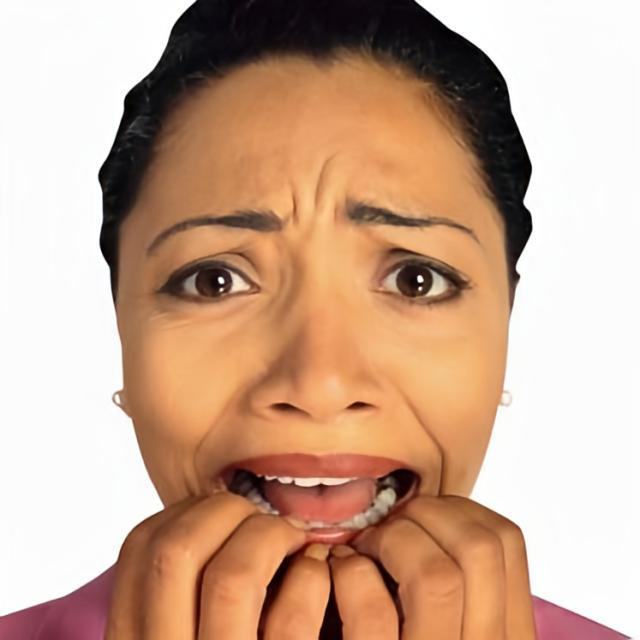fear: (122, 47, 510, 624)
